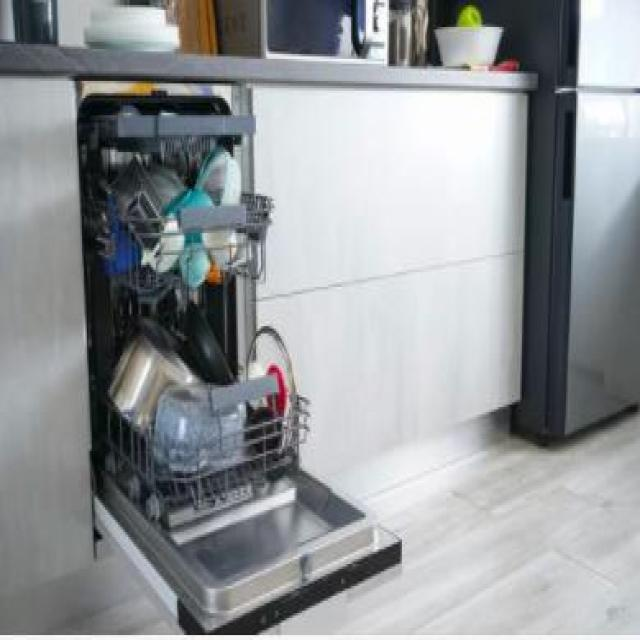dishwasher: (64, 78, 405, 640)
